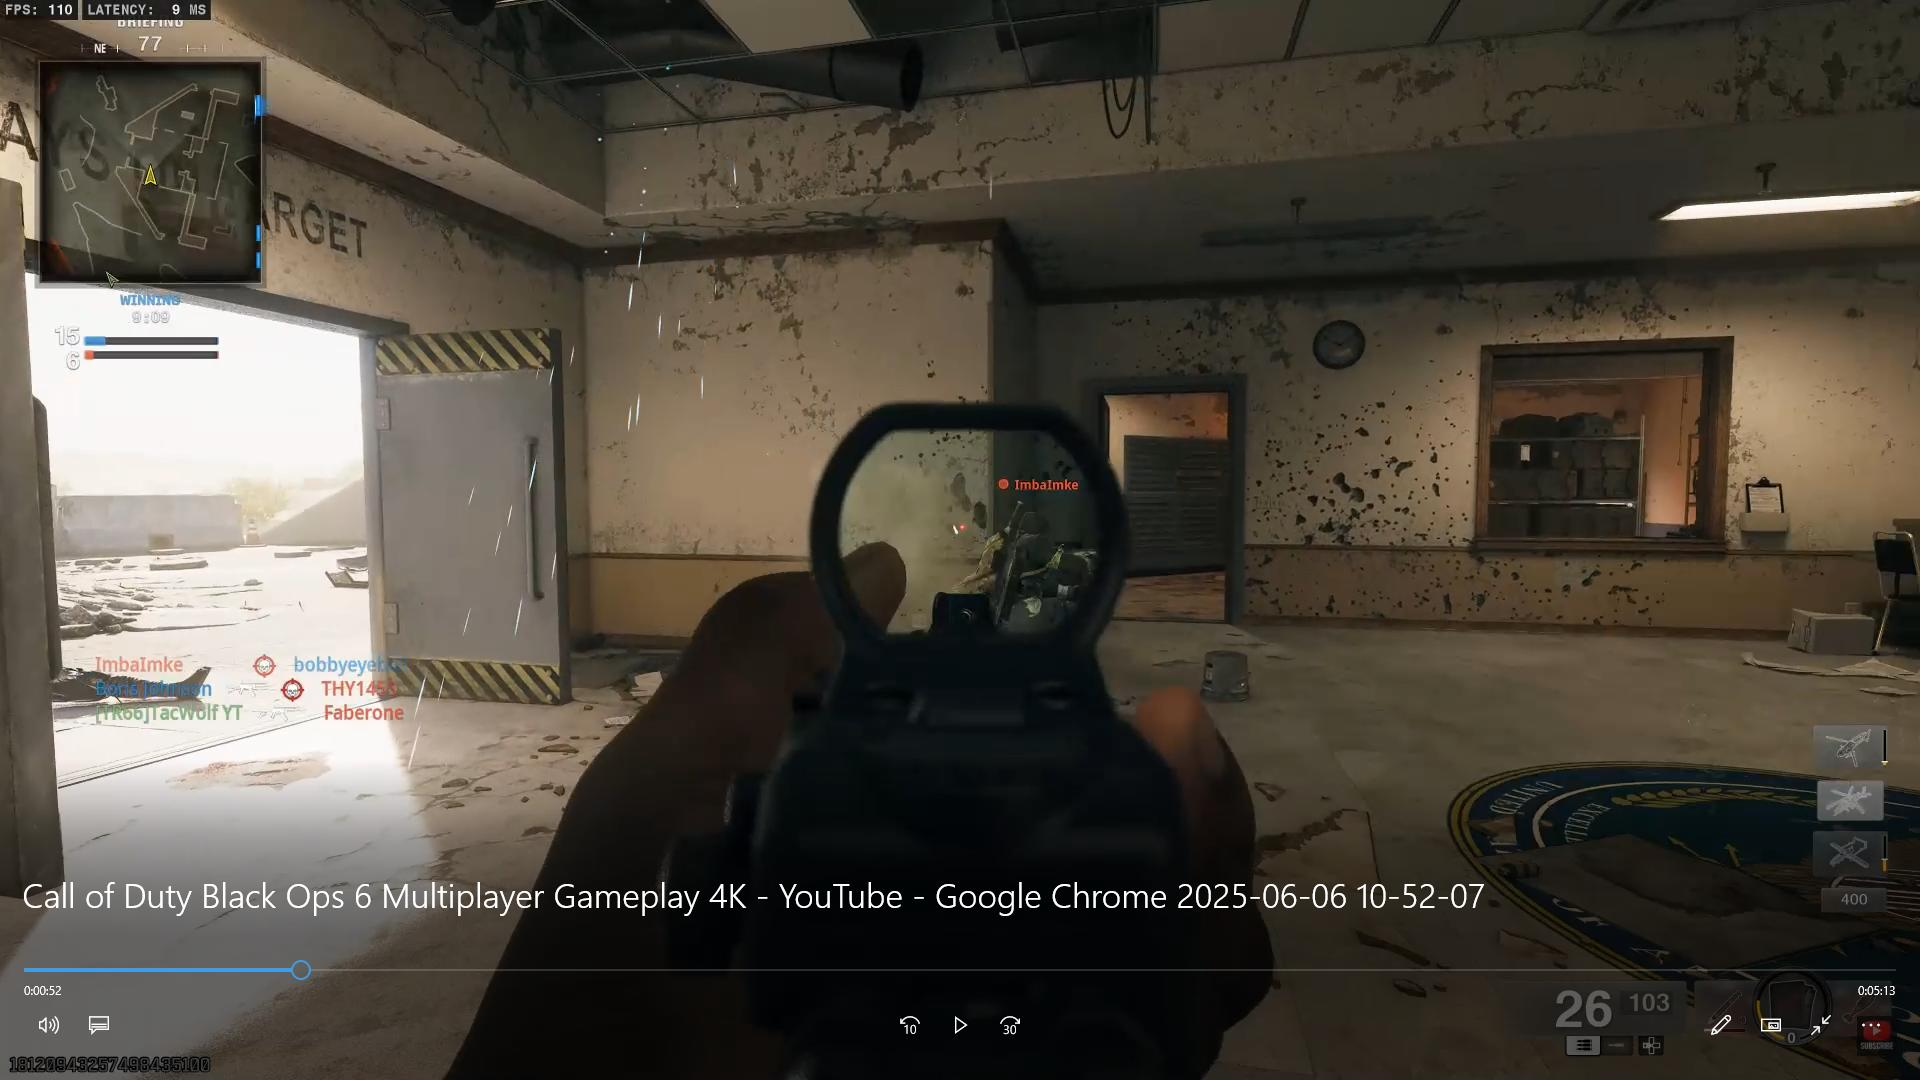Enemy: (971, 442, 1087, 617)
